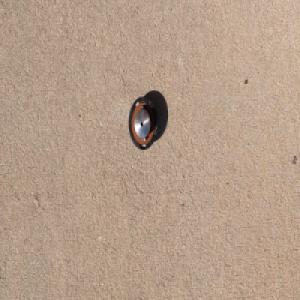FuelCap: (127, 94, 159, 152)
